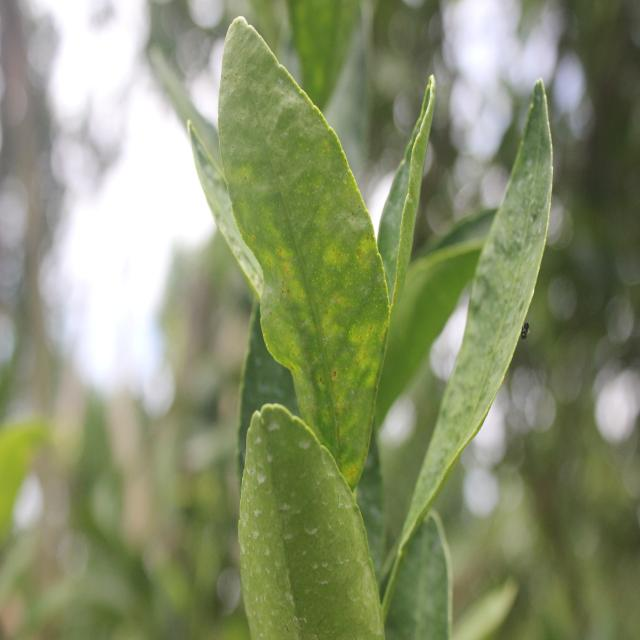canker: (225, 49, 380, 448)
